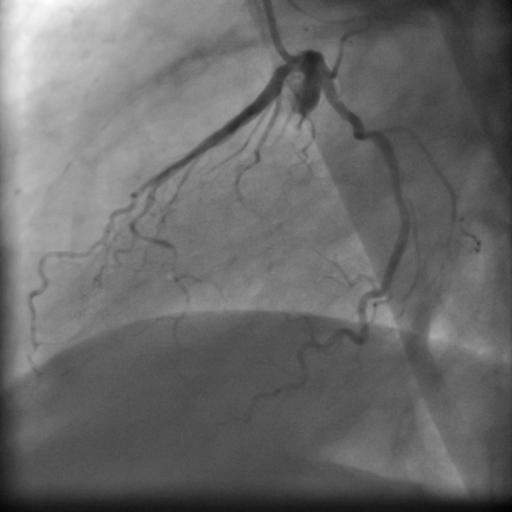Stenosis: (352, 115, 375, 147)
